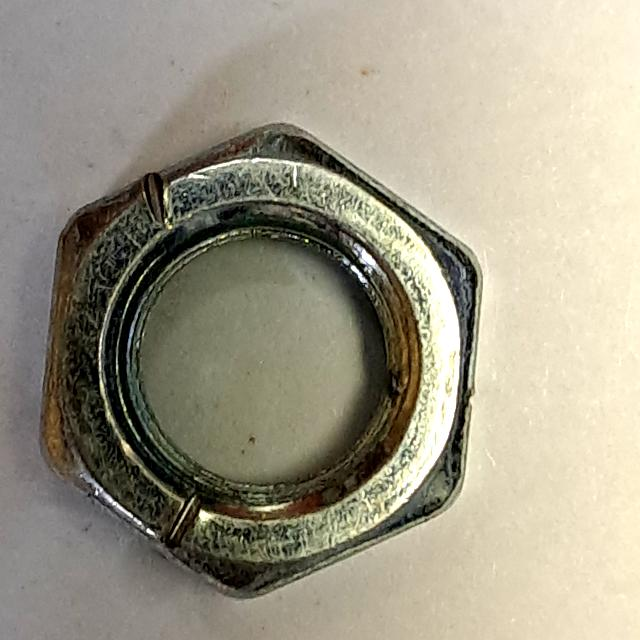Scratches: (27, 111, 502, 610)
